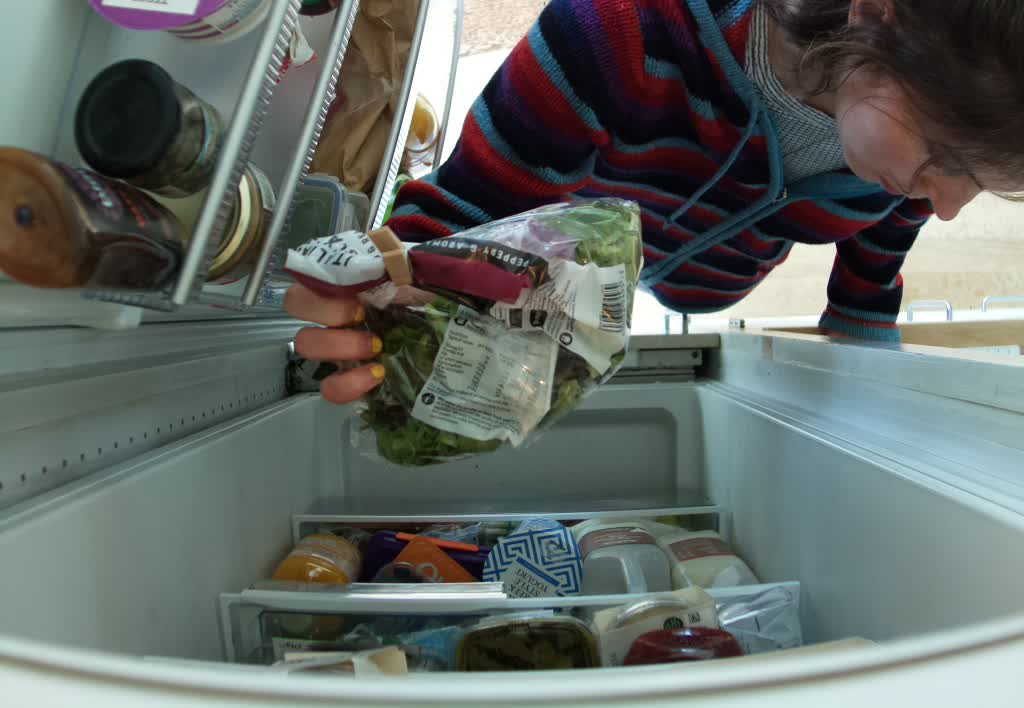salad: (366, 198, 645, 468)
